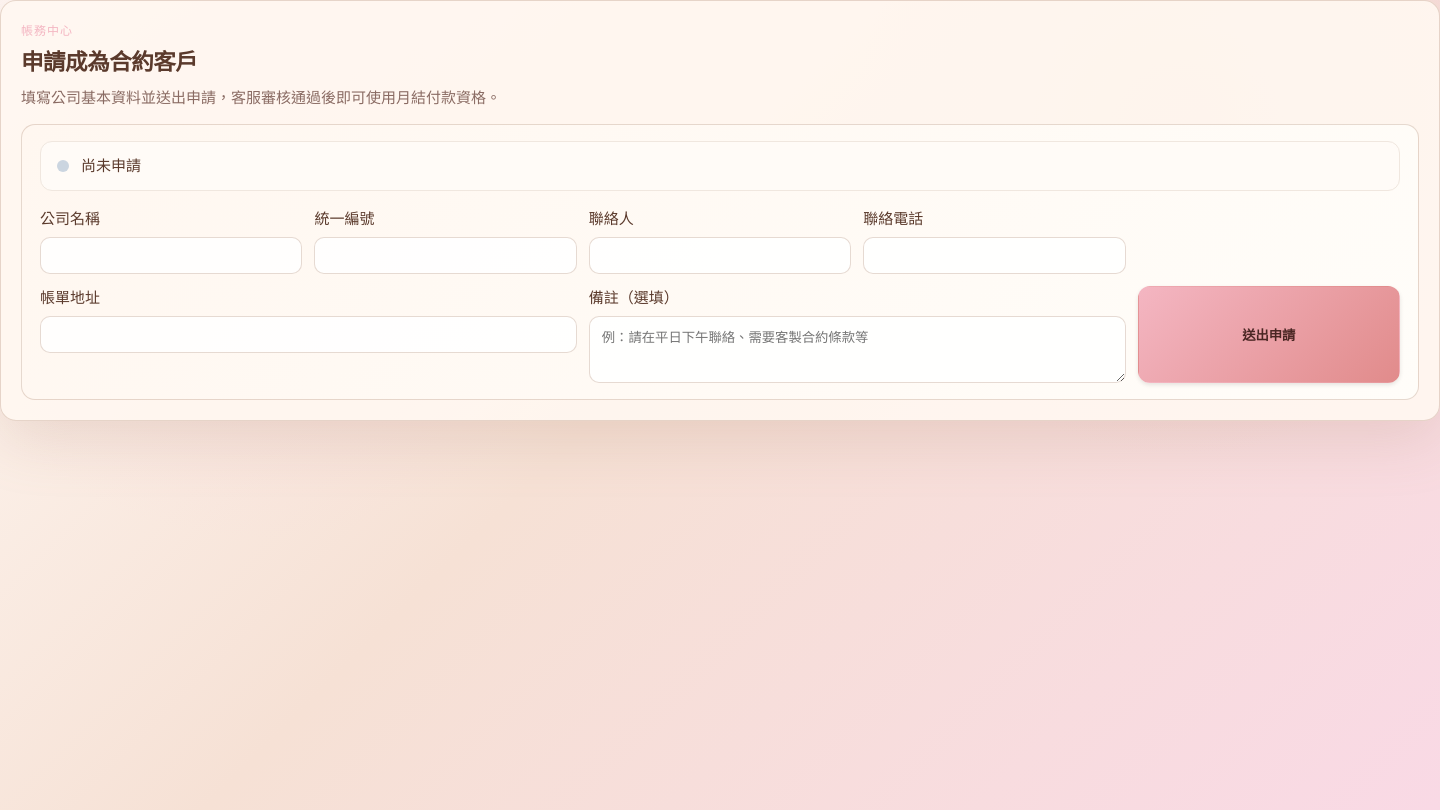
CustomerContractView › submits application
The image size is (1440, 810).
// Fill form
In the field named "company_name": (171, 256) [40, 237, 302, 274], type "My Company"
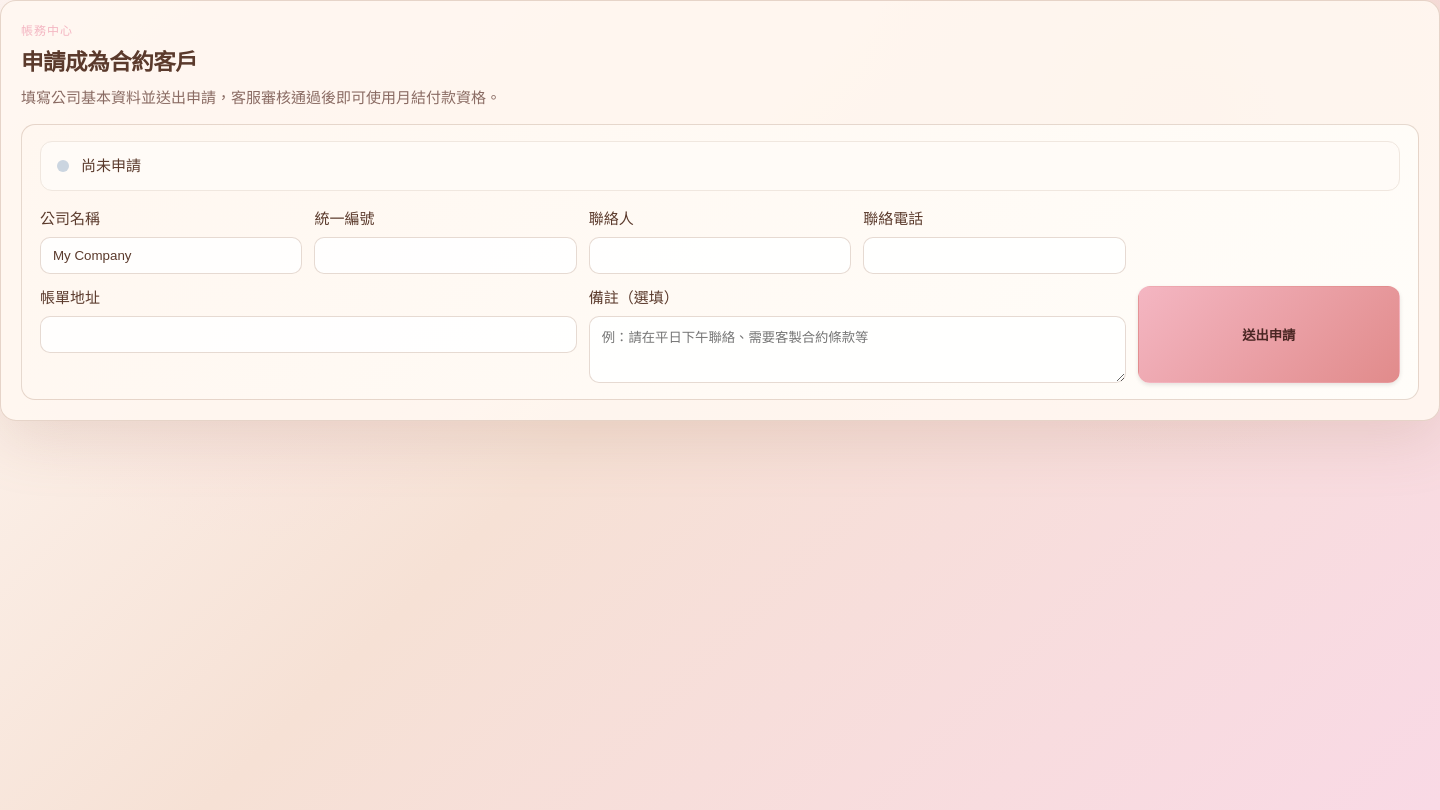
In the field named "tax_id": (446, 256) [314, 237, 577, 274], type "88888888"
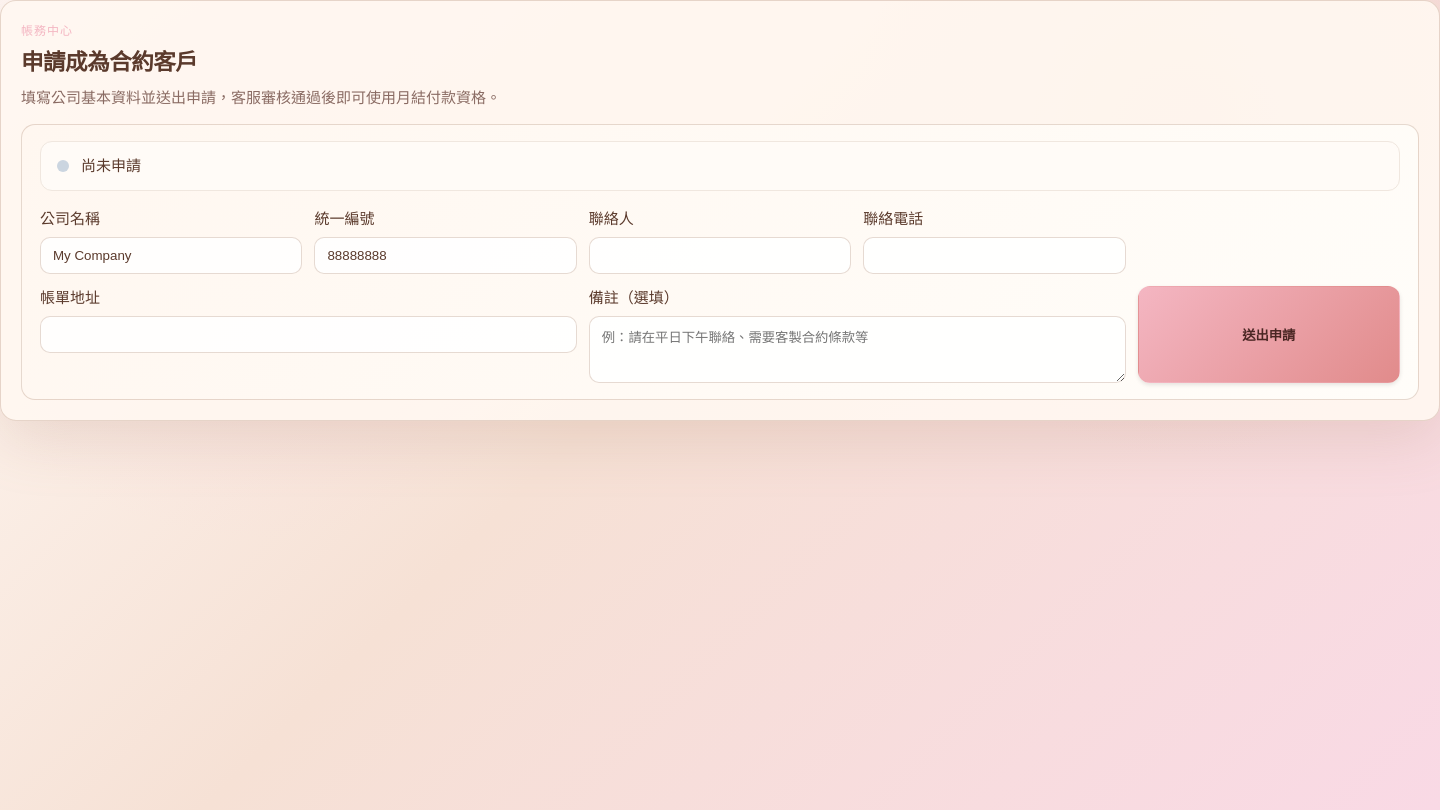
In the field named "contact_person": (720, 256) [589, 237, 851, 274], type "Me"
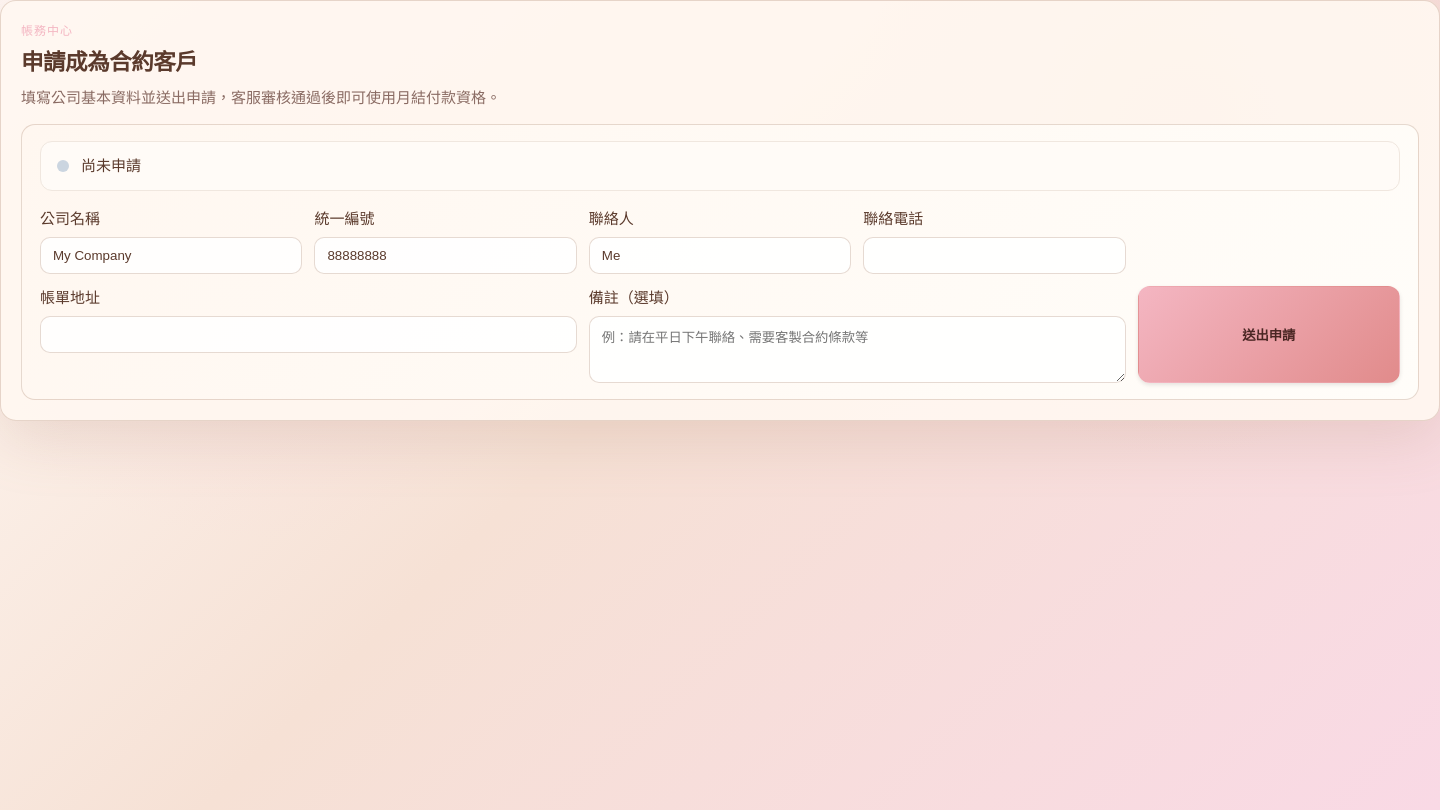
In the field named "contact_phone": (994, 256) [863, 237, 1126, 274], type "0900000000"
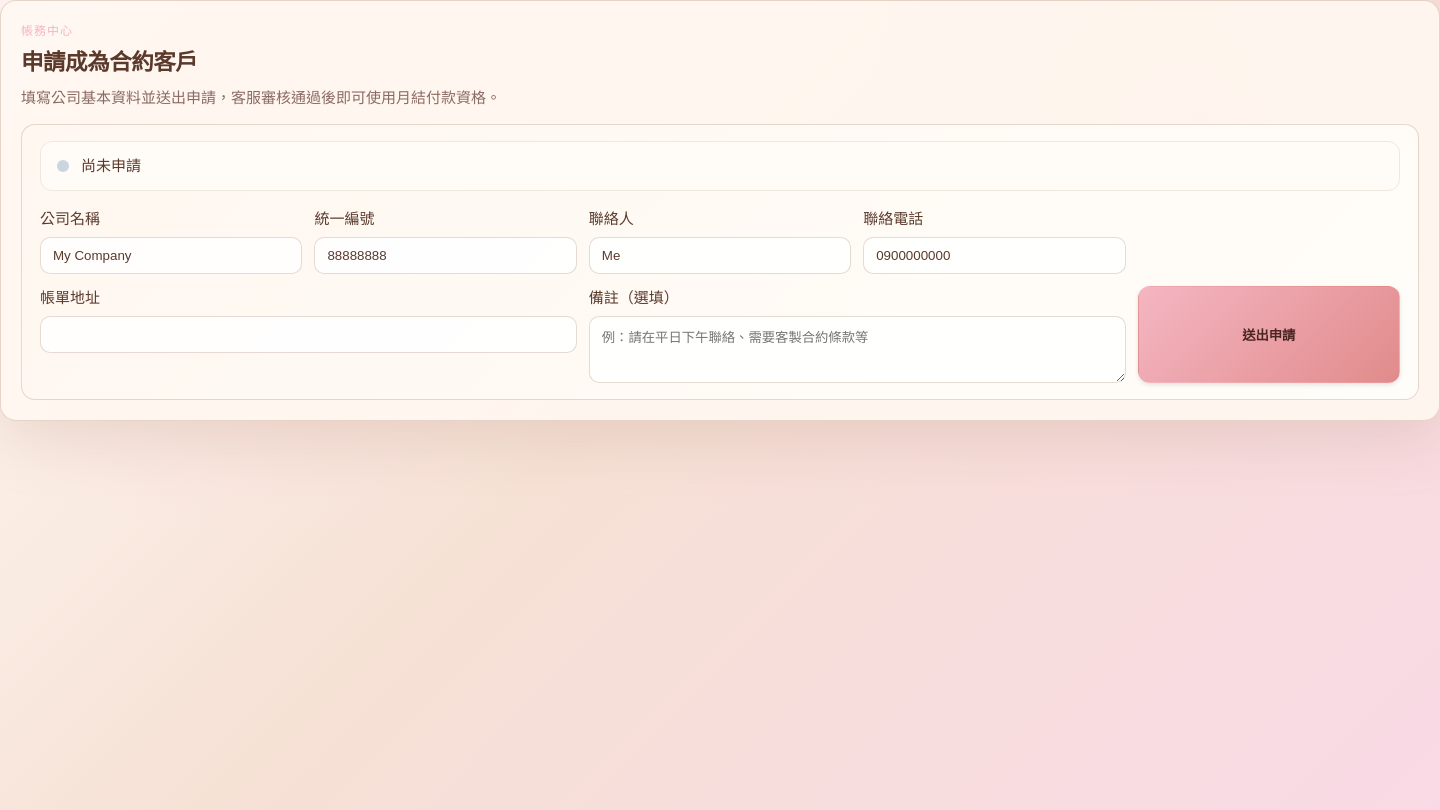
In the field named "billing_address": (308, 335) [40, 316, 577, 353], type "Taipei"
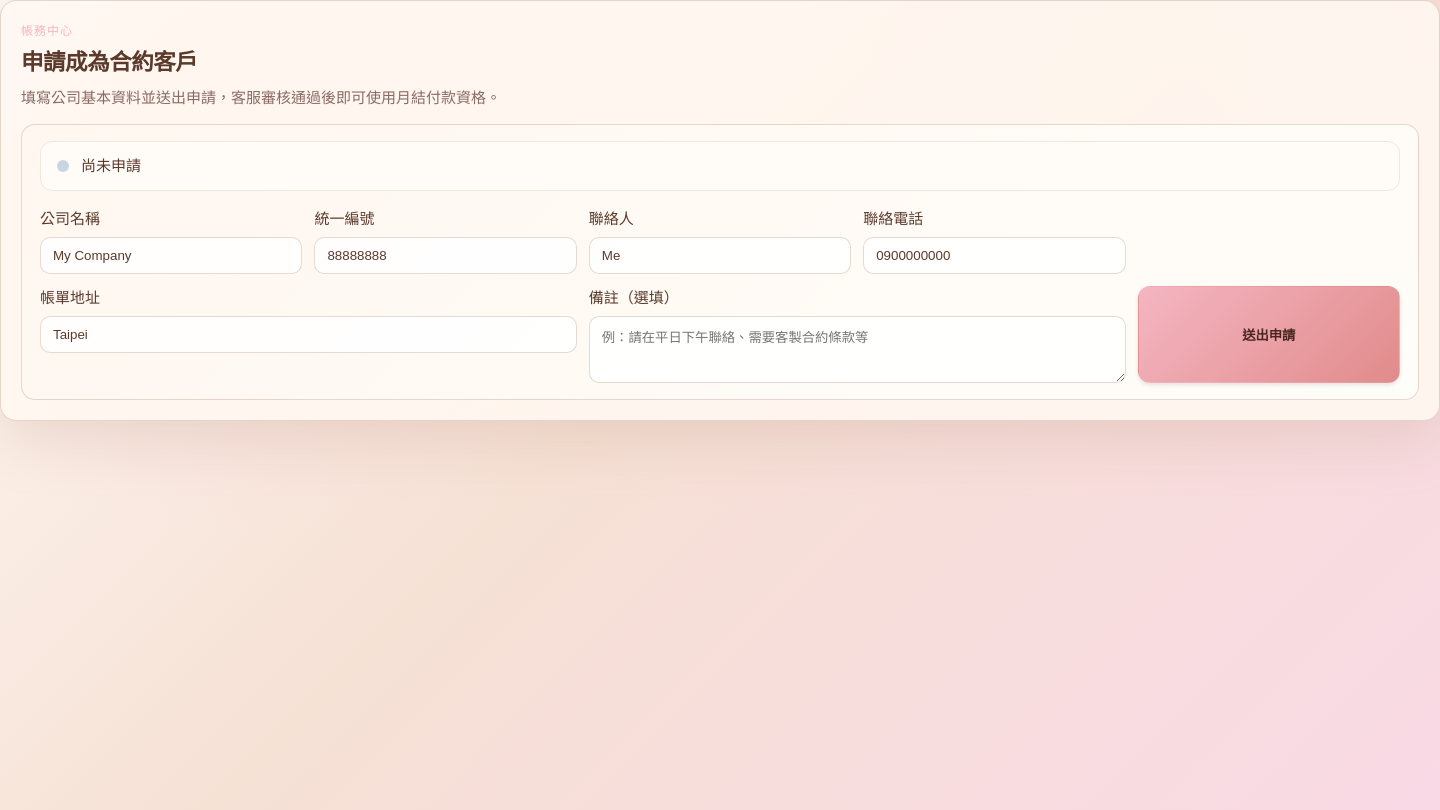
Submit the form, box [40, 207, 1400, 383]
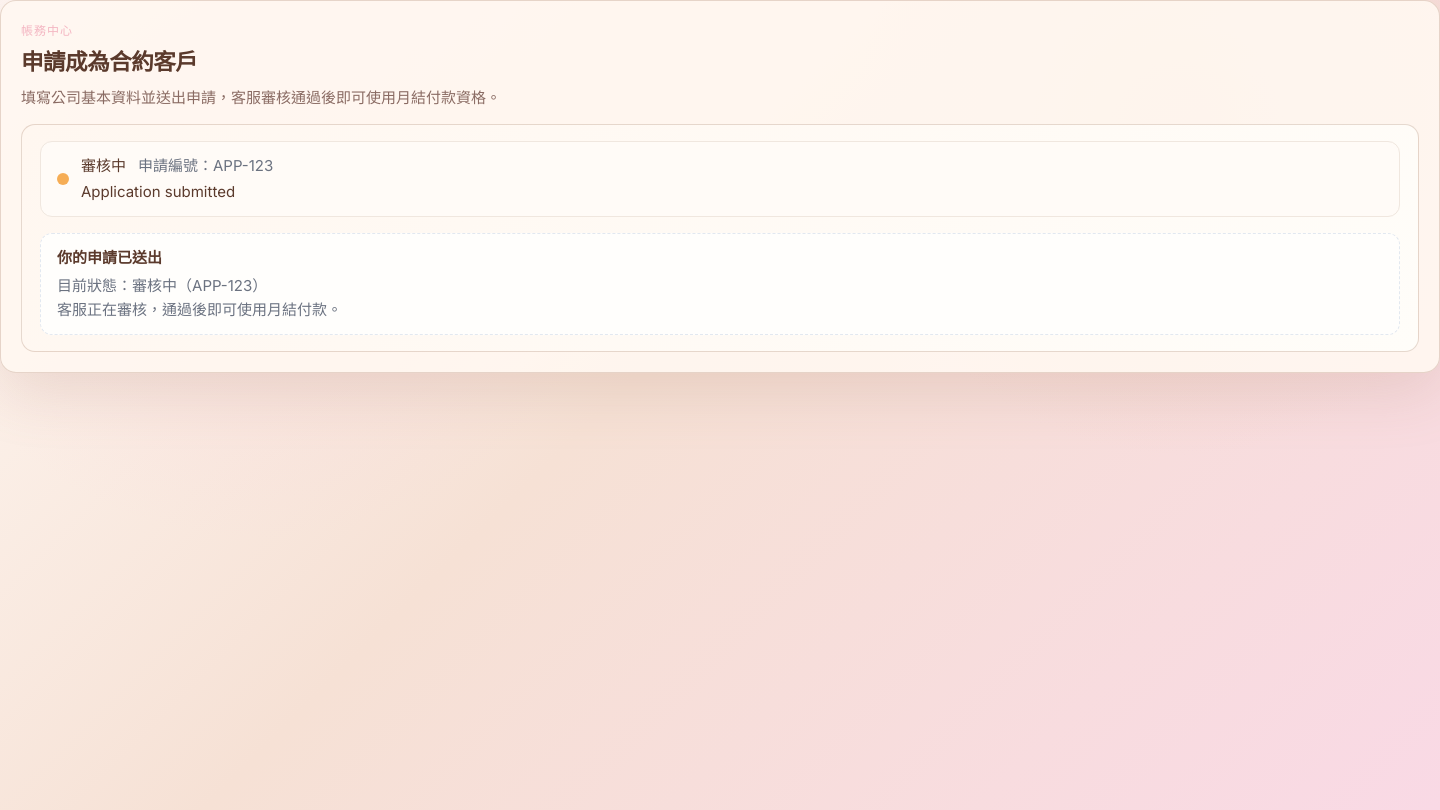
Result: the text "APP-123" is shown at [138, 156, 273, 175]
